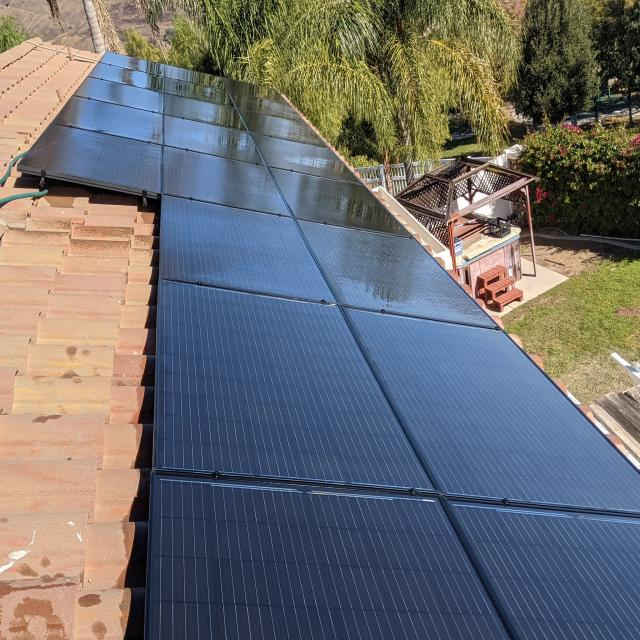clean-solar-panel: (20, 53, 640, 638)
